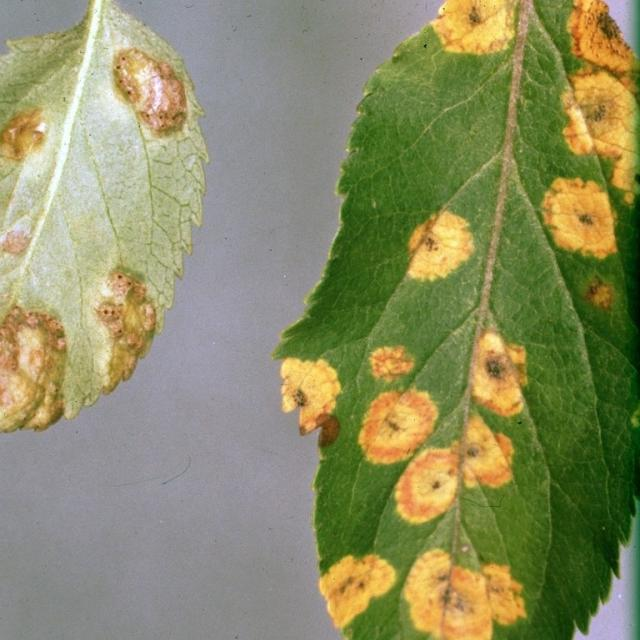Gymnosporangium_Rusts: (274, 1, 638, 637), (0, 0, 209, 433)
